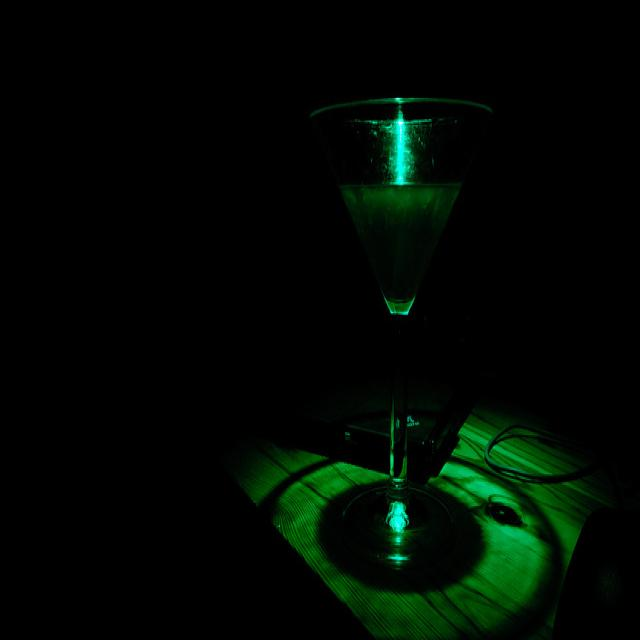Cup: (334, 70, 499, 594)
